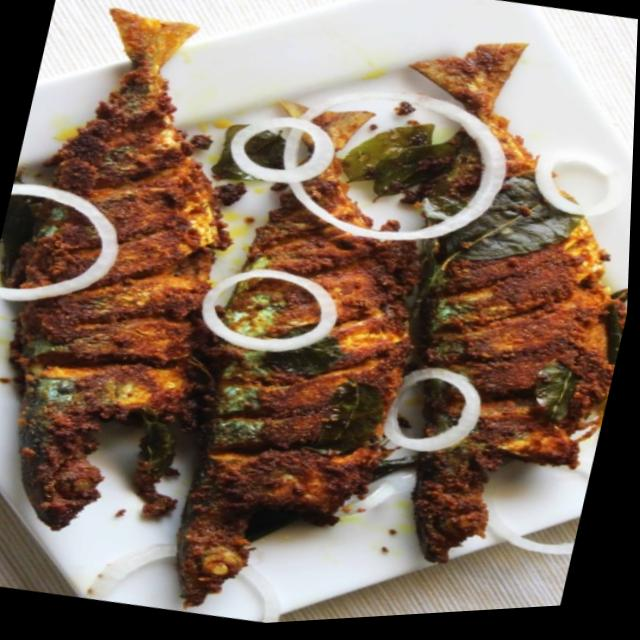FISH FRY: (0, 4, 630, 619)
